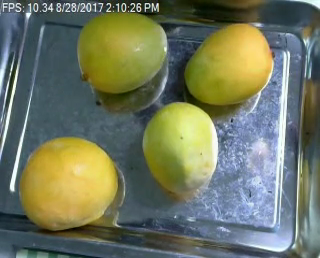Mango: (19, 136, 118, 230), (182, 23, 273, 105), (77, 12, 165, 93), (141, 99, 216, 194)
